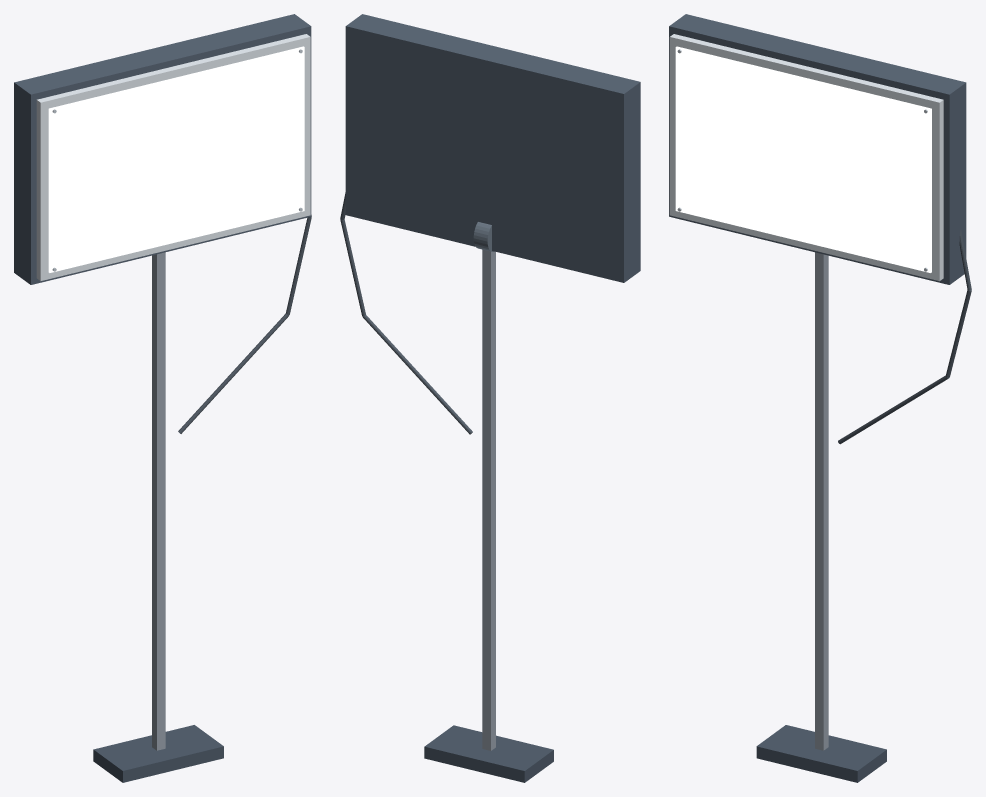
Rendered from elgato-key-light-air-mk2.glb.
3 renders of one model, left to right at view 1: azimuth 30°, elevation 25°; view 2: azimuth 150°, elevation 25°; view 3: azimuth 330°, elevation 25°, orthographic.
Parts seen in each view (by area): view 1: frosted_diffuser-5, panel_shell-3, panel_border-4, mount_pole-1, desk_clamp-0, power_usb_2-12; view 2: panel_shell-3, mount_pole-1, desk_clamp-0, power_usb_2-12; view 3: frosted_diffuser-5, panel_shell-3, panel_border-4, mount_pole-1, desk_clamp-0, power_usb_2-12.
Boxes of the visible parts, left/top/right/bottom form: frosted_diffuser-5: left=48, top=46, right=304, bottom=272; panel_shell-3: left=14, top=14, right=311, bottom=284; panel_border-4: left=36, top=34, right=310, bottom=280; mount_pole-1: left=152, top=252, right=165, bottom=750; desk_clamp-0: left=93, top=725, right=223, bottom=782; power_usb_2-12: left=178, top=313, right=288, bottom=433; panel_shell-3: left=345, top=14, right=640, bottom=282; mount_pole-1: left=482, top=249, right=495, bottom=750; desk_clamp-0: left=424, top=725, right=553, bottom=782; power_usb_2-12: left=363, top=315, right=472, bottom=434; frosted_diffuser-5: left=675, top=46, right=931, bottom=272; panel_shell-3: left=669, top=14, right=966, bottom=284; panel_border-4: left=669, top=34, right=943, bottom=281; mount_pole-1: left=815, top=252, right=828, bottom=750; desk_clamp-0: left=756, top=725, right=886, bottom=782; power_usb_2-12: left=838, top=375, right=948, bottom=444.
Bounding box in the file's own units: 3.32 × 7.7 × 0.6725.
